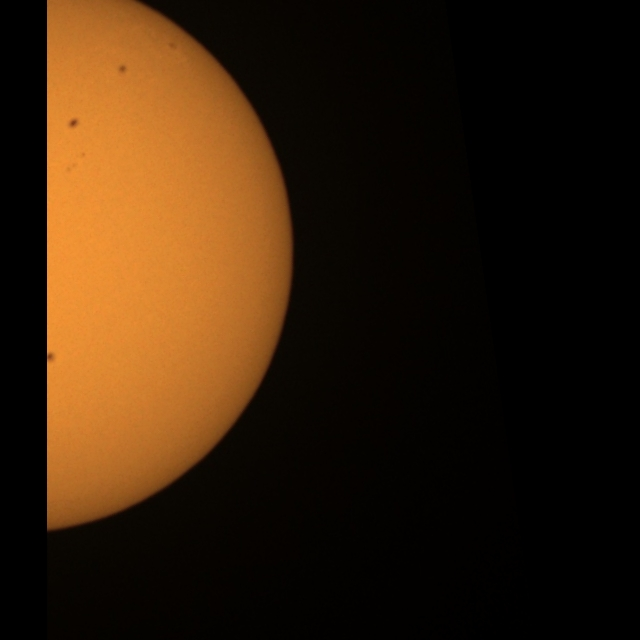sunspot: (64, 151, 86, 174), (67, 117, 80, 130), (46, 349, 56, 364), (117, 63, 128, 76), (168, 41, 179, 52)
